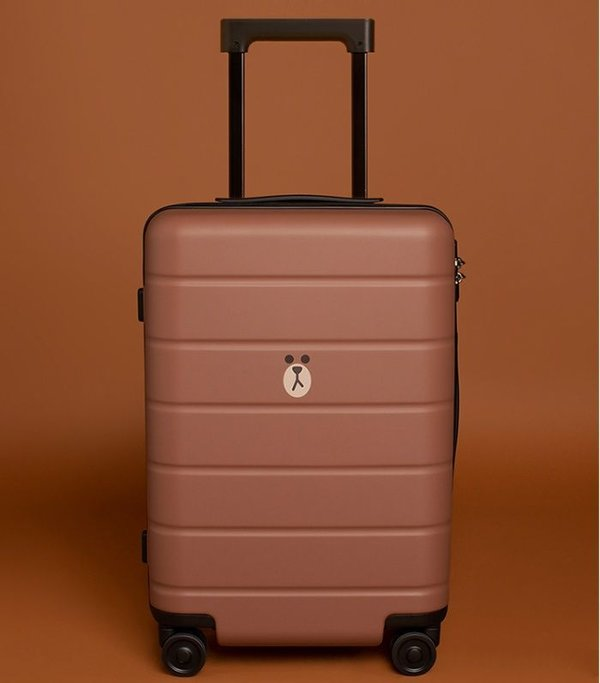box: (144, 199, 458, 649)
handle: (213, 194, 386, 206)
wheel: (389, 631, 438, 676), (161, 633, 206, 677)
